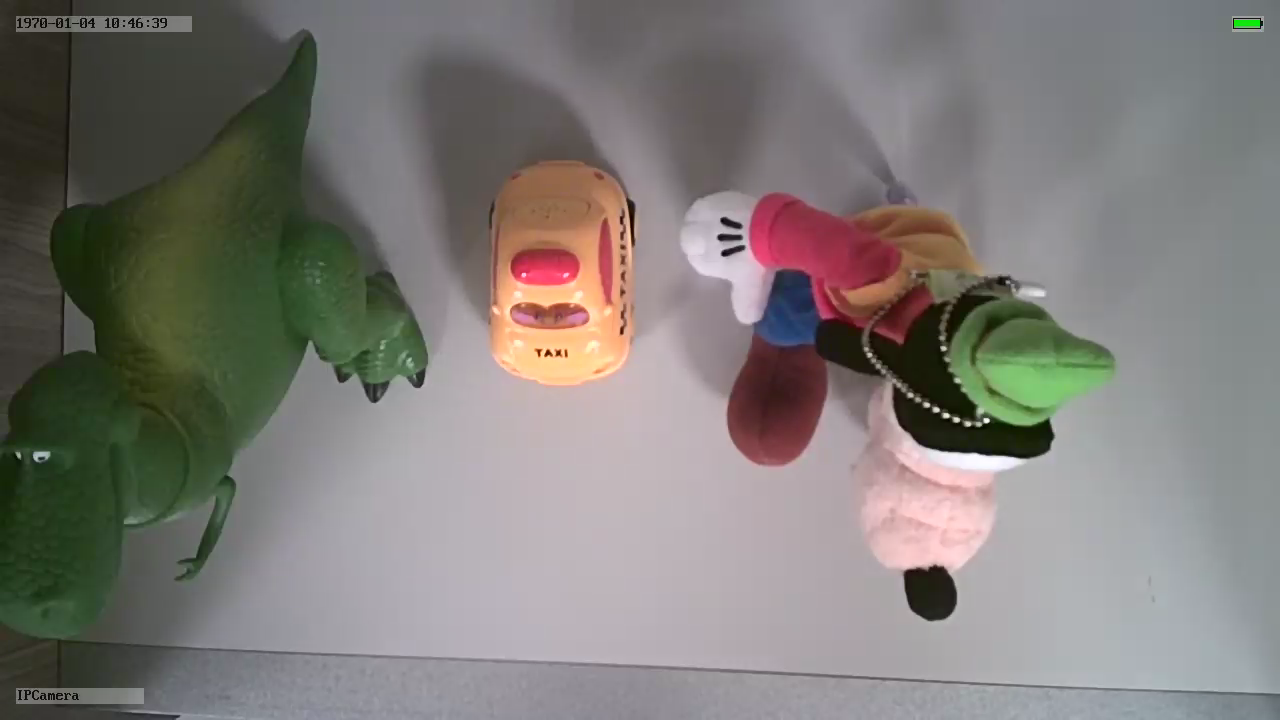goofy: (679, 190, 1118, 630)
